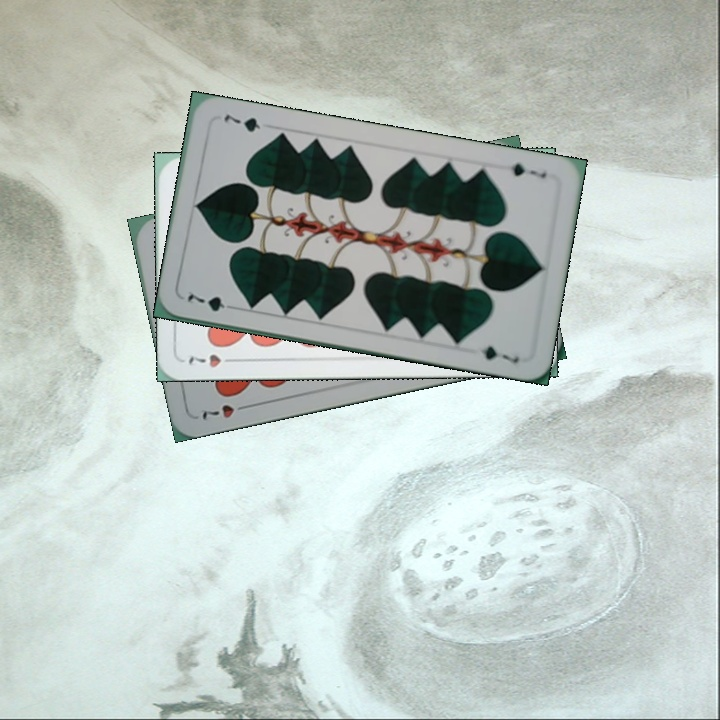G7: (183, 289, 240, 314), (506, 158, 549, 181)
H7: (196, 399, 253, 423), (185, 350, 241, 370)
